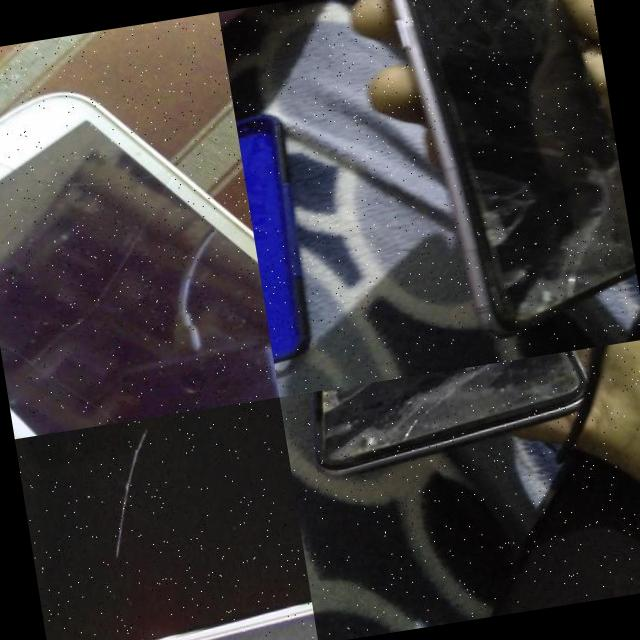scratch: (88, 437, 169, 564)
screen crack: (439, 136, 636, 338), (290, 362, 516, 476)
